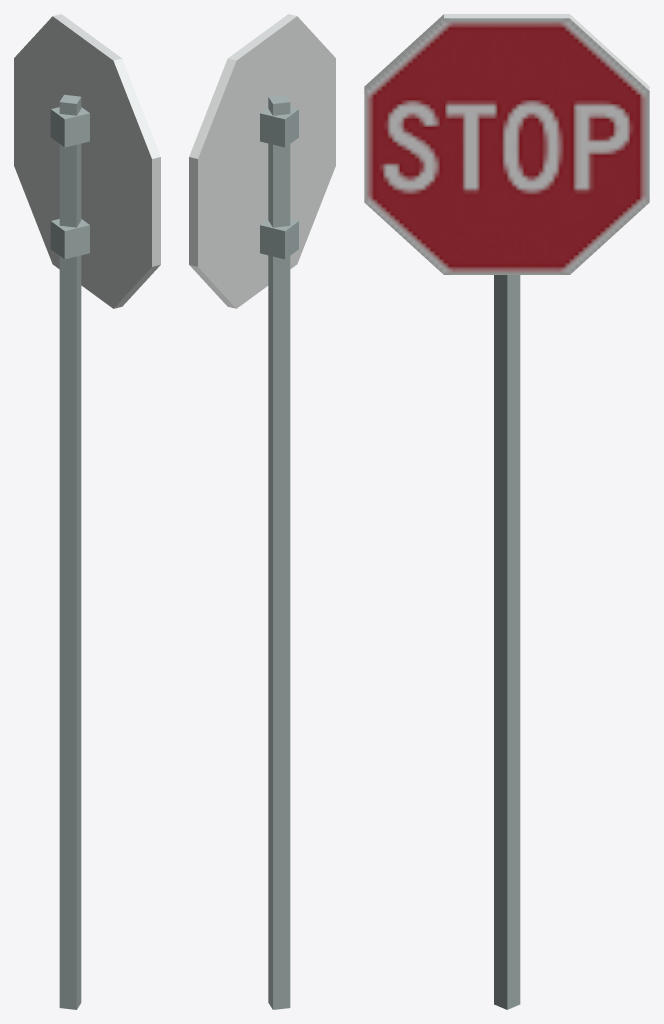
The model's file is stop sign.fbx.
3 renders of one model, left to right at view 1: azimuth 30°, elevation 25°; view 2: azimuth 150°, elevation 25°; view 3: azimuth 270°, elevation 25°, orthographic. The views are drawn at different scales.
Parts seen in each view (by area): view 1: sign cycle form; view 2: sign cycle form; view 3: sign cycle form.
Boxes of the visible parts, left/top/right/bottom form: sign cycle form: left=14, top=14, right=160, bottom=1009; sign cycle form: left=189, top=14, right=335, bottom=1009; sign cycle form: left=364, top=14, right=649, bottom=1009.
Size of the model in its own units: 7.1 by 192 by 49.74.
